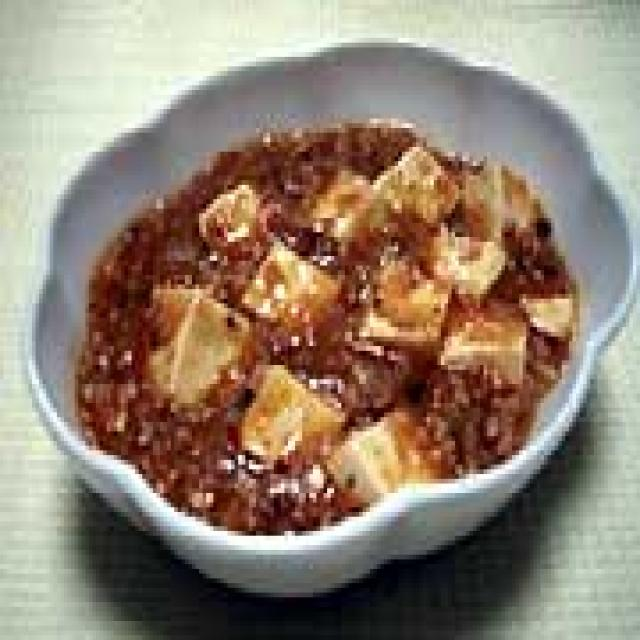豆腐料理: (14, 29, 640, 598)
